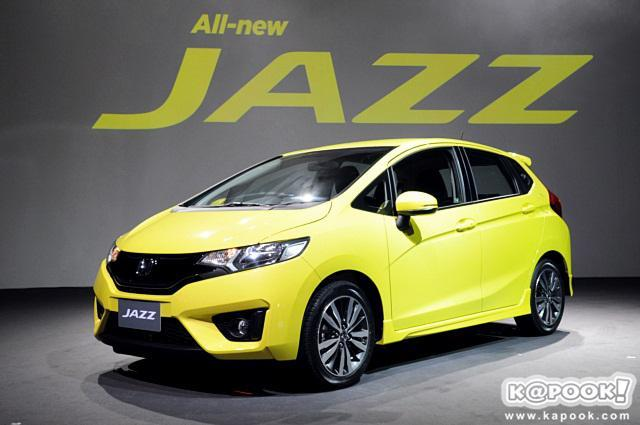Hatchback: (72, 132, 587, 395)
